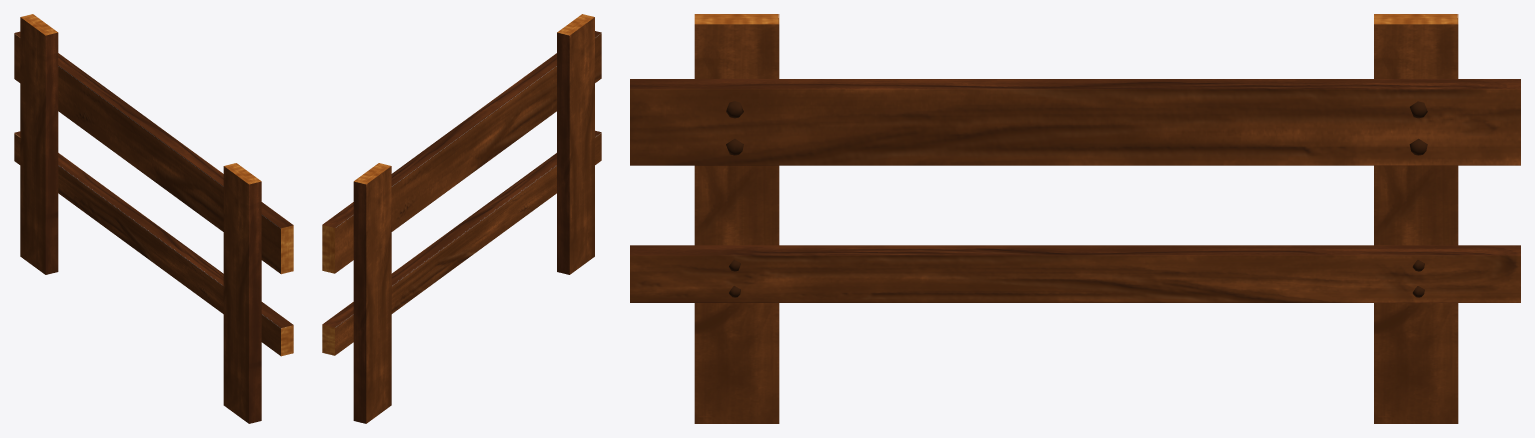
Rendered from fence-low-poly.fbx.
3 renders of one model, left to right at view 1: azimuth 30°, elevation 25°; view 2: azimuth 150°, elevation 25°; view 3: azimuth 270°, elevation 25°, orthographic. The views are drawn at different scales.
Visible parts, largest first — view 1: Fence; view 2: Fence; view 3: Fence.
Boxes of the visible parts, x1,y1,x2,y2 form: Fence: (14, 14, 293, 423); Fence: (322, 14, 601, 423); Fence: (630, 14, 1520, 423).
Bounding box in the file's own units: 38.86 × 298 × 602.
Materials: 1 (1 with a texture image).
